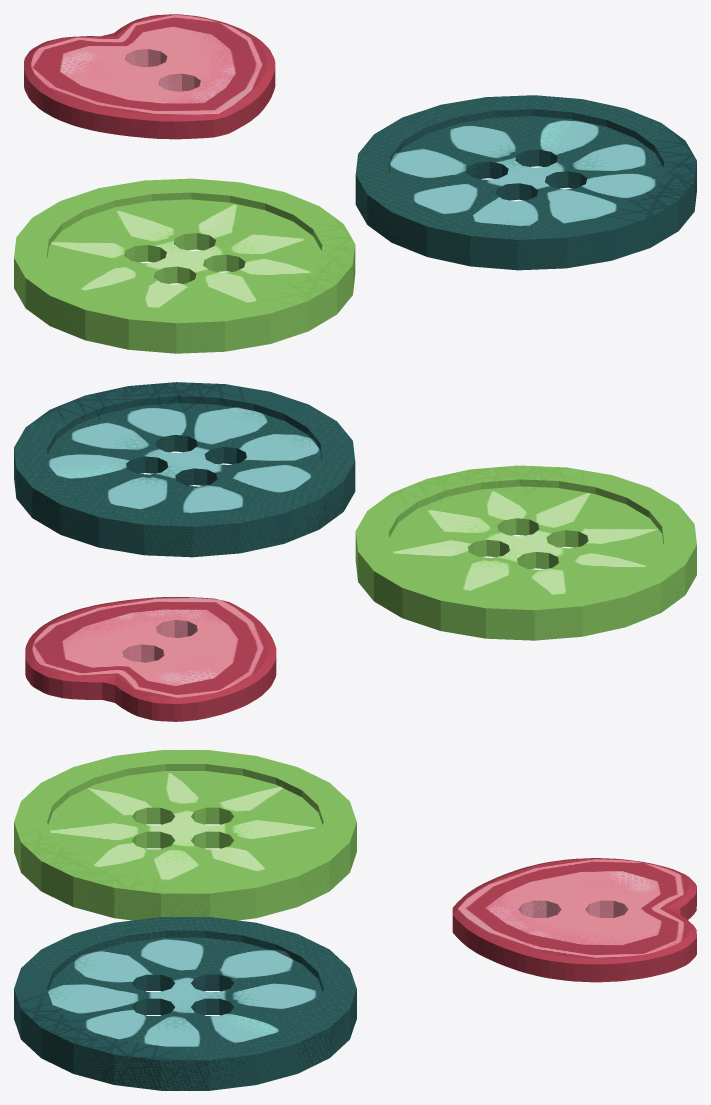
File: Buttons3.3.fbx
3 renders of one model, top to bottom at view 1: azimuth 30°, elevation 25°; view 2: azimuth 150°, elevation 25°; view 3: azimuth 270°, elevation 25°, orthographic.
Parts seen in each view (by area): view 1: Button3, Button1, Button2; view 2: Button3, Button1, Button2; view 3: Button3, Button1, Button2.
Boxes of the visible parts, bbox=[...] form: Button3: bbox=[355, 95, 696, 270]; Button1: bbox=[14, 178, 355, 353]; Button2: bbox=[24, 14, 275, 139]; Button3: bbox=[14, 382, 355, 557]; Button1: bbox=[355, 465, 696, 640]; Button2: bbox=[25, 597, 276, 721]; Button3: bbox=[14, 917, 356, 1090]; Button1: bbox=[14, 750, 356, 920]; Button2: bbox=[452, 858, 696, 982].
Bounding box in the file's own units: 95.83 × 4.39 × 89.17.
Materials: 3 (3 with a texture image).
